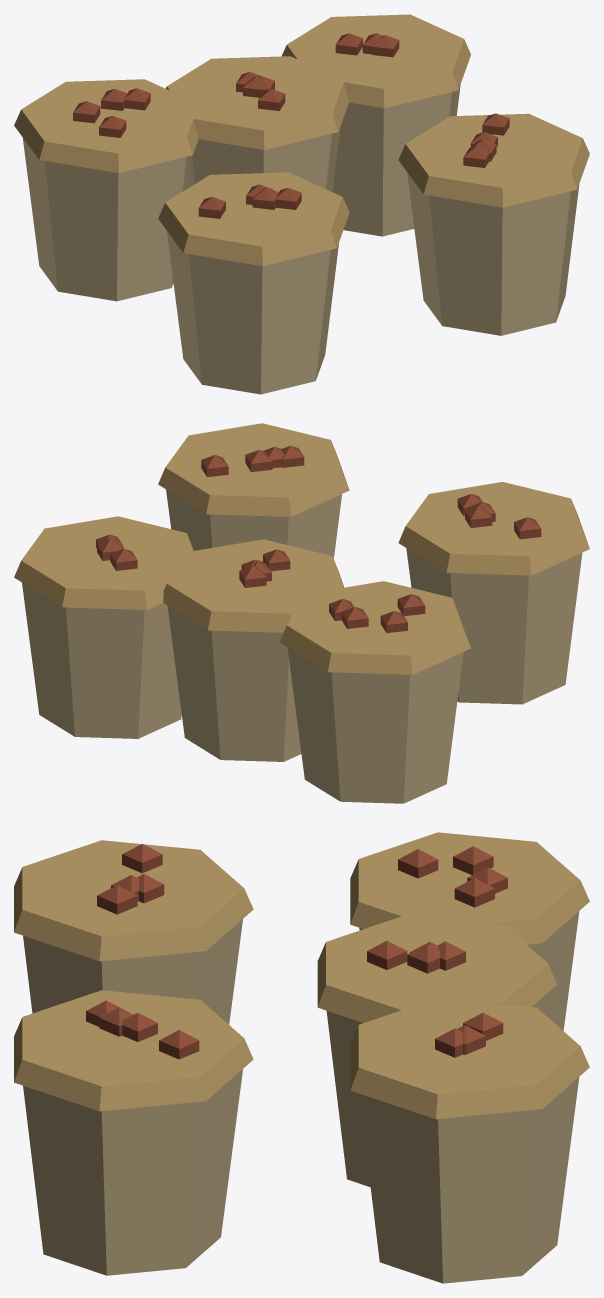
The model's file is pile_beans_2.glb.
3 views of the same model, one above another, from view 1: azimuth 30°, elevation 25°; view 2: azimuth 150°, elevation 25°; view 3: azimuth 270°, elevation 25° (orthographic). The views are drawn at different scales.
Visible parts, largest first — view 1: pile_beans_2; view 2: pile_beans_2; view 3: pile_beans_2.
Boxes of the visible parts, x1,y1,x2,y2 form: pile_beans_2: [14, 14, 589, 394]; pile_beans_2: [14, 423, 589, 803]; pile_beans_2: [14, 832, 589, 1283].
Size of the model in its own units: 1.37 by 0.52 by 1.23.
